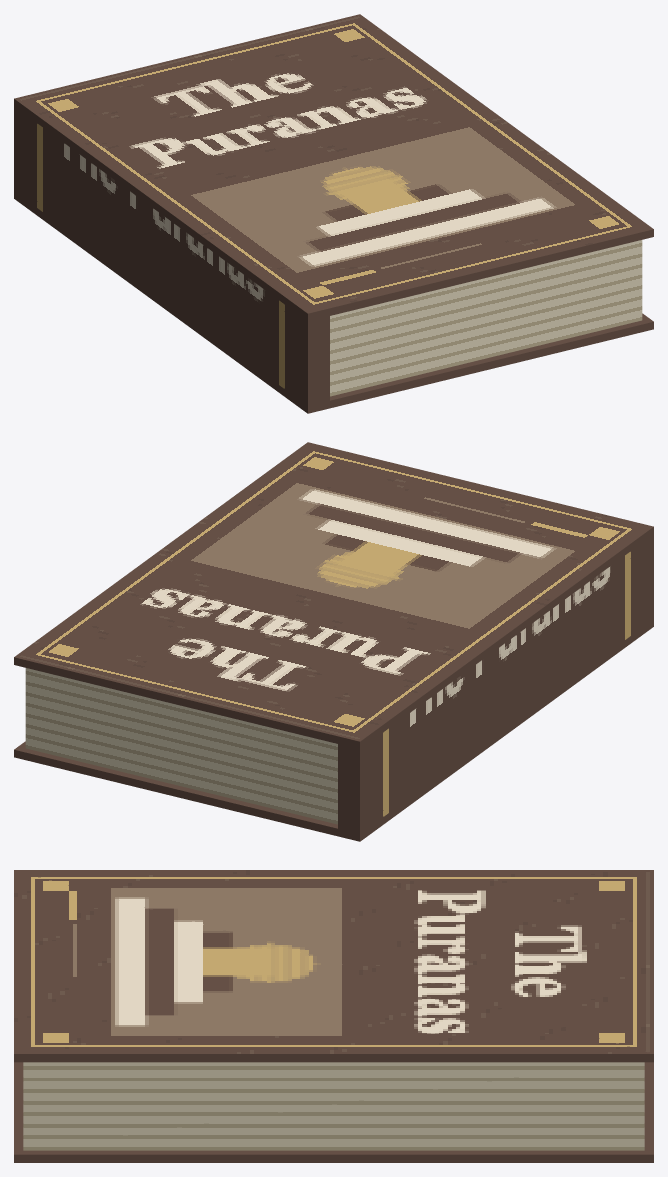
The model's file is holybook_puranas.glb.
3 renders of one model, top to bottom at view 1: azimuth 30°, elevation 25°; view 2: azimuth 150°, elevation 25°; view 3: azimuth 270°, elevation 25°, orthographic. The views are drawn at different scales.
Parts seen in each view (by area): view 1: block_front cover, block_spine, block_page block, block_back cover; view 2: block_front cover, block_spine, block_page block, block_back cover; view 3: block_front cover, block_page block, block_back cover.
Part boxes in pixels (left/top/right/bottom): block_front cover: left=14, top=14, right=653, bottom=321; block_spine: left=14, top=106, right=329, bottom=405; block_page block: left=330, top=240, right=642, bottom=396; block_back cover: left=14, top=191, right=653, bottom=413; block_front cover: left=14, top=442, right=653, bottom=749; block_spine: left=338, top=534, right=653, bottom=833; block_page block: left=25, top=668, right=337, bottom=824; block_back cover: left=14, top=619, right=653, bottom=841; block_front cover: left=14, top=870, right=653, bottom=1062; block_page block: left=23, top=1062, right=644, bottom=1150; block_back cover: left=14, top=1062, right=653, bottom=1162.
Size of the model in its own units: 0.1414 by 0.0391 by 0.208.
Materials: 1 (1 with a texture image).
